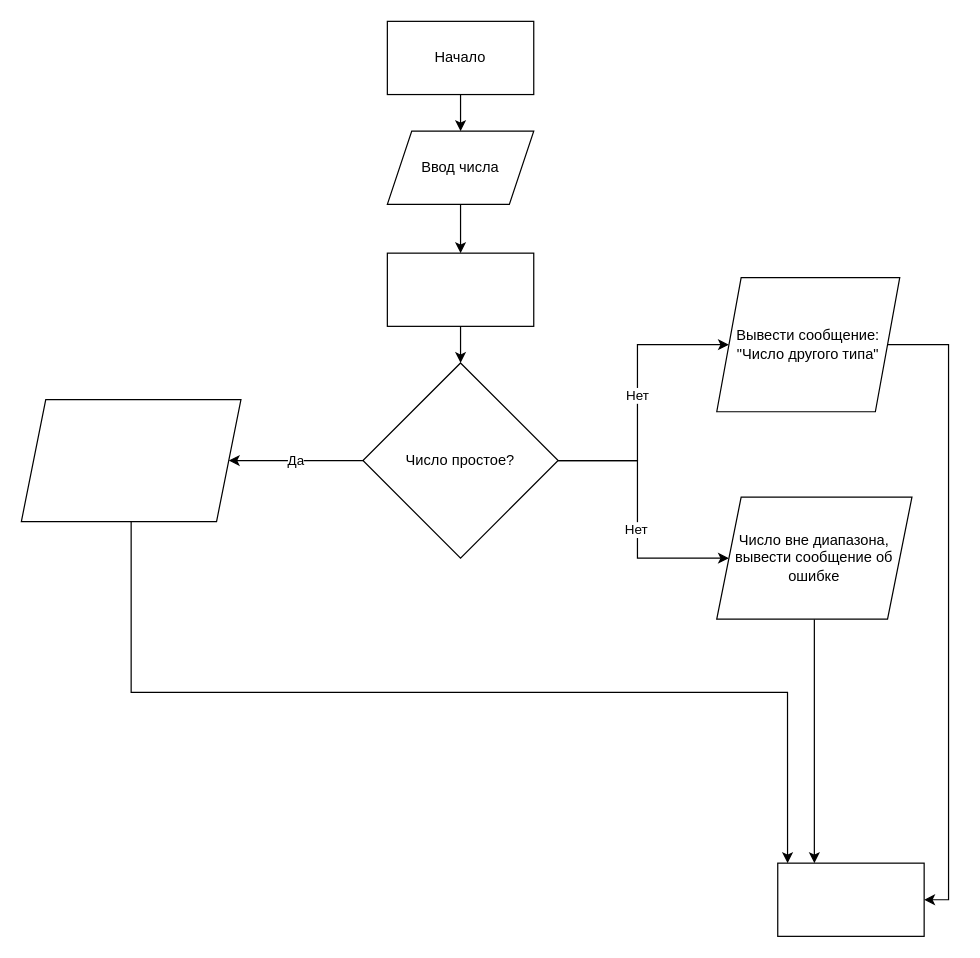
Image size: 980x958. Some labels were removed from this diagram. The box of each missing label's shape, as (x1, y1, x2, y2) in pixels:
Вывести сообщение: "Это простое число": (20, 398, 241, 522)
Конец: (777, 862, 924, 936)
Нажимаем на кнопку "Узнать": (386, 252, 534, 326)
